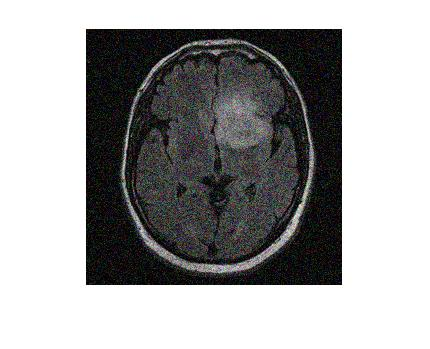Brain_Cancer: (214, 89, 273, 154)
